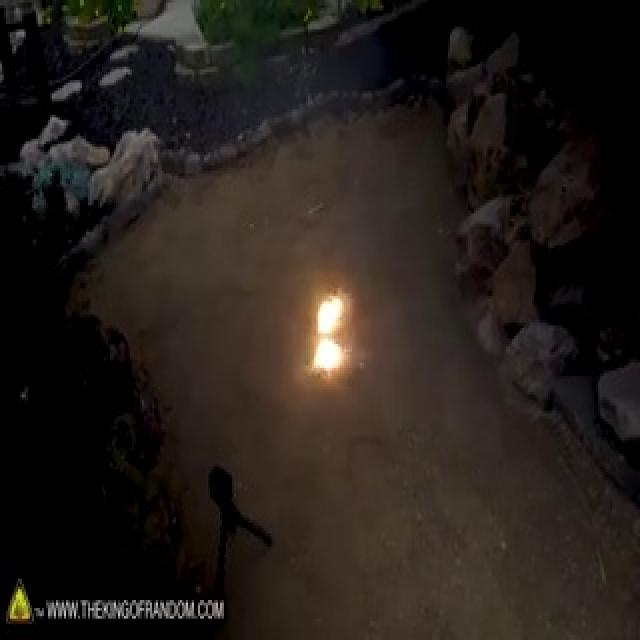Fire: (310, 278, 348, 386)
Smoke: (326, 106, 499, 376)
